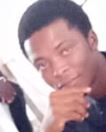without_facemask: (40, 71, 95, 95)
